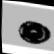correct: (16, 17, 52, 47)
